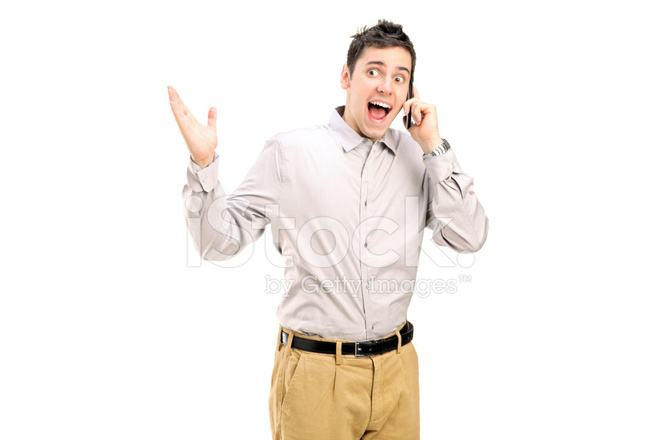phone: (404, 73, 412, 128)
talk: (352, 55, 439, 147)
